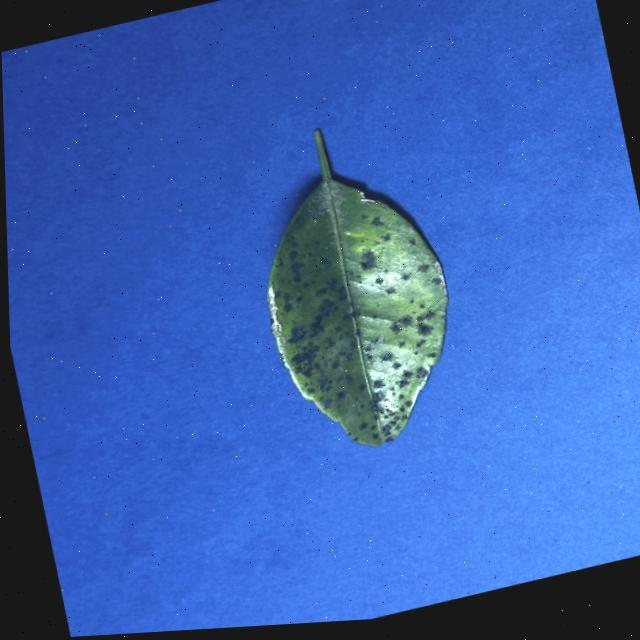sooty_mold: (267, 129, 447, 446)
